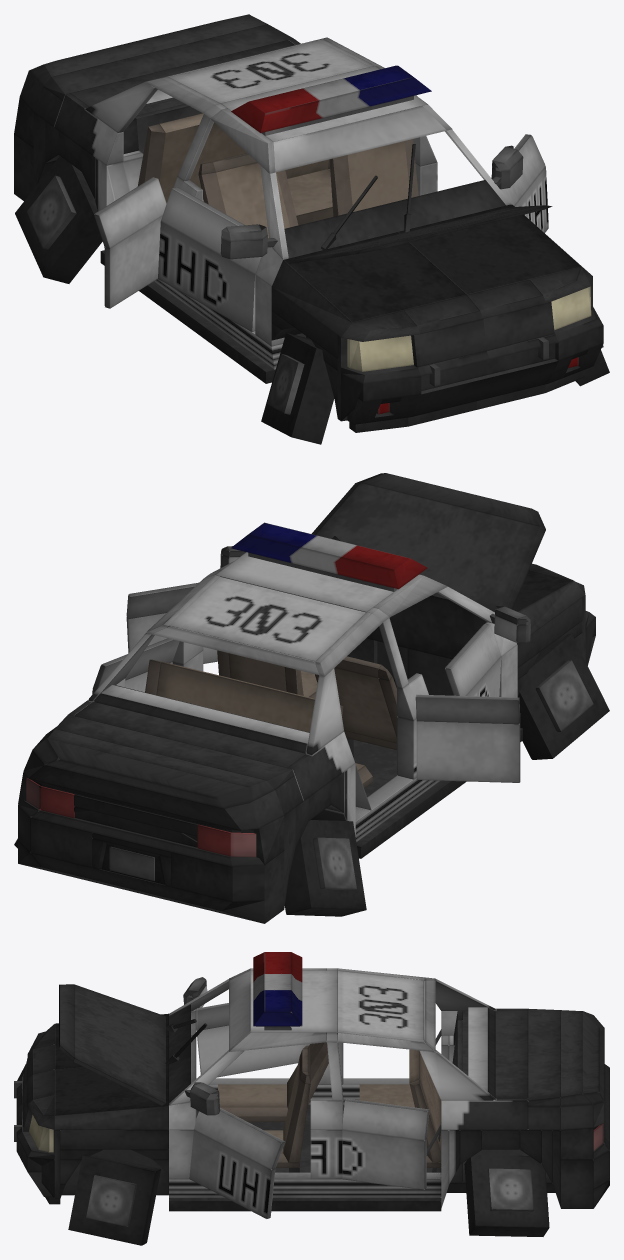
Rendered from wreckage_police1.obj.
3 views of the same model, one above another, from view 1: azimuth 30°, elevation 25°; view 2: azimuth 150°, elevation 25°; view 3: azimuth 270°, elevation 25° (orthographic). The views are drawn at different scales.
Parts seen in each view (by area): view 1: yourclassnameModel4, yourclassnameModel24, yourclassnameModel104, yourclassnameModel211, yourclassnameModel208, yourclassnameModel200, yourclassnameModel148, yourclassnameModel191, yourclassnameModel169, yourclassnameModel189, yourclassnameModel78, yourclassnameModel171 (+60 smaller); view 2: yourclassnameModel186, yourclassnameModel208, yourclassnameModel203, yourclassnameModel211, yourclassnameModel172, yourclassnameModel78, yourclassnameModel189, yourclassnameModel158, yourclassnameModel191, yourclassnameModel156, yourclassnameModel209, yourclassnameModel169 (+47 smaller); view 3: yourclassnameModel186, yourclassnameModel24, yourclassnameModel208, yourclassnameModel190, yourclassnameModel188, yourclassnameModel2, yourclassnameModel196, yourclassnameModel199, yourclassnameModel123, yourclassnameModel211, yourclassnameModel150, yourclassnameModel169 (+61 smaller).
Boxes of the visible parts, x1,y1,x2,y2 form: yourclassnameModel4: (271, 232, 466, 336); yourclassnameModel24: (397, 204, 590, 294); yourclassnameModel104: (284, 180, 505, 258); yourclassnameModel211: (231, 65, 431, 132); yourclassnameModel208: (169, 41, 368, 103); yourclassnameModel200: (158, 221, 255, 331); yourclassnameModel148: (273, 106, 446, 172); yourclassnameModel191: (15, 156, 102, 283); yourclassnameModel169: (43, 24, 293, 100); yourclassnameModel189: (261, 333, 334, 444); yourclassnameModel78: (159, 113, 328, 203); yourclassnameModel171: (29, 14, 267, 85); yourclassnameModel186: (311, 482, 545, 612); yourclassnameModel208: (167, 577, 365, 661); yourclassnameModel203: (416, 721, 520, 782); yourclassnameModel211: (231, 522, 427, 589); yourclassnameModel172: (32, 738, 249, 808); yourclassnameModel78: (156, 662, 314, 732); yourclassnameModel189: (517, 634, 609, 759); yourclassnameModel158: (93, 685, 309, 753); yourclassnameModel191: (285, 820, 366, 916); yourclassnameModel156: (23, 750, 258, 830); yourclassnameModel209: (216, 552, 397, 612); yourclassnameModel169: (48, 714, 294, 789); yourclassnameModel186: (73, 984, 165, 1105); yourclassnameModel24: (54, 1060, 168, 1129); yourclassnameModel208: (337, 971, 423, 1039); yourclassnameModel190: (464, 1155, 549, 1236); yourclassnameModel188: (68, 1154, 160, 1245); yourclassnameModel2: (169, 1105, 441, 1211); yourclassnameModel196: (189, 1130, 275, 1218); yourclassnameModel199: (342, 1130, 426, 1189); yourclassnameModel123: (169, 1172, 441, 1197); yourclassnameModel211: (253, 952, 302, 1026); yourclassnameModel150: (463, 1011, 528, 1098); yourclassnameModel169: (528, 1008, 560, 1106).
Size of the model in its own units: 4.66 by 2.64 by 6.84.
Materials: 1 (1 with a texture image).
